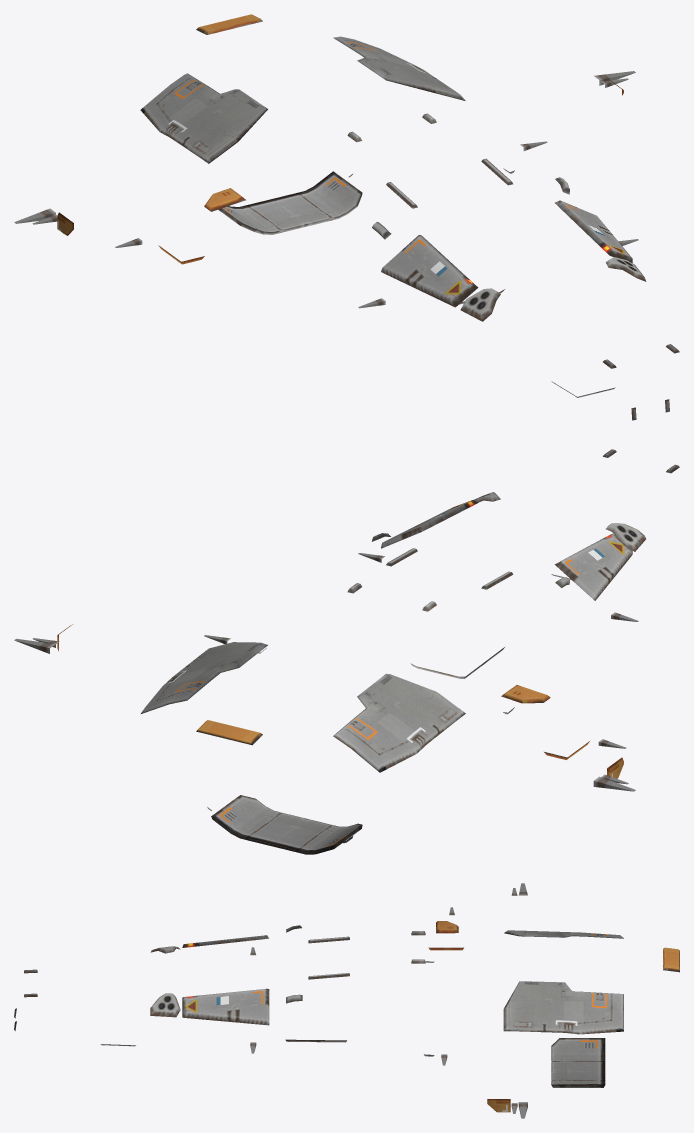
File: hgn_cf_assa_02_t1.glb
The picture shows the model from 3 angles, top to bottom: view 1: azimuth 30°, elevation 25°; view 2: azimuth 150°, elevation 25°; view 3: azimuth 270°, elevation 25°; orthographic projection. The views are drawn at different scales.
Visible parts, largest first — view 1: hgn_assault_frigate_01_t1_LOD0; view 2: hgn_assault_frigate_01_t1_LOD0; view 3: hgn_assault_frigate_01_t1_LOD0.
Part boxes in pixels (bbox=[...]): hgn_assault_frigate_01_t1_LOD0: bbox=[14, 14, 679, 420]; hgn_assault_frigate_01_t1_LOD0: bbox=[14, 449, 679, 854]; hgn_assault_frigate_01_t1_LOD0: bbox=[14, 883, 679, 1118].
Size of what is drawn, in the model's own units: 2.21 by 0.5597 by 2.64.
Materials: 1 (1 with a texture image).
